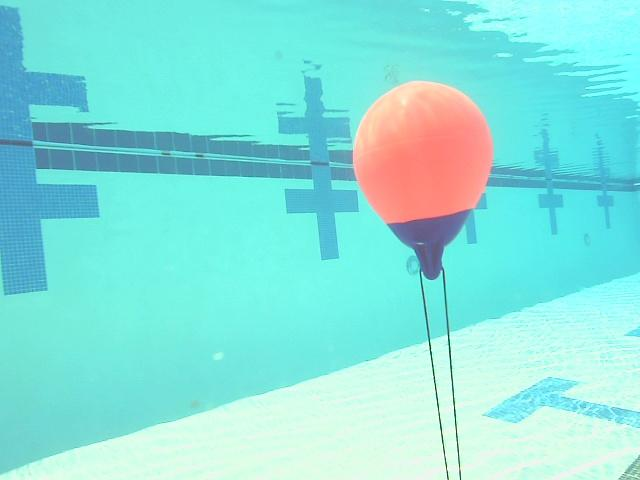buoy: (354, 81, 494, 281)
